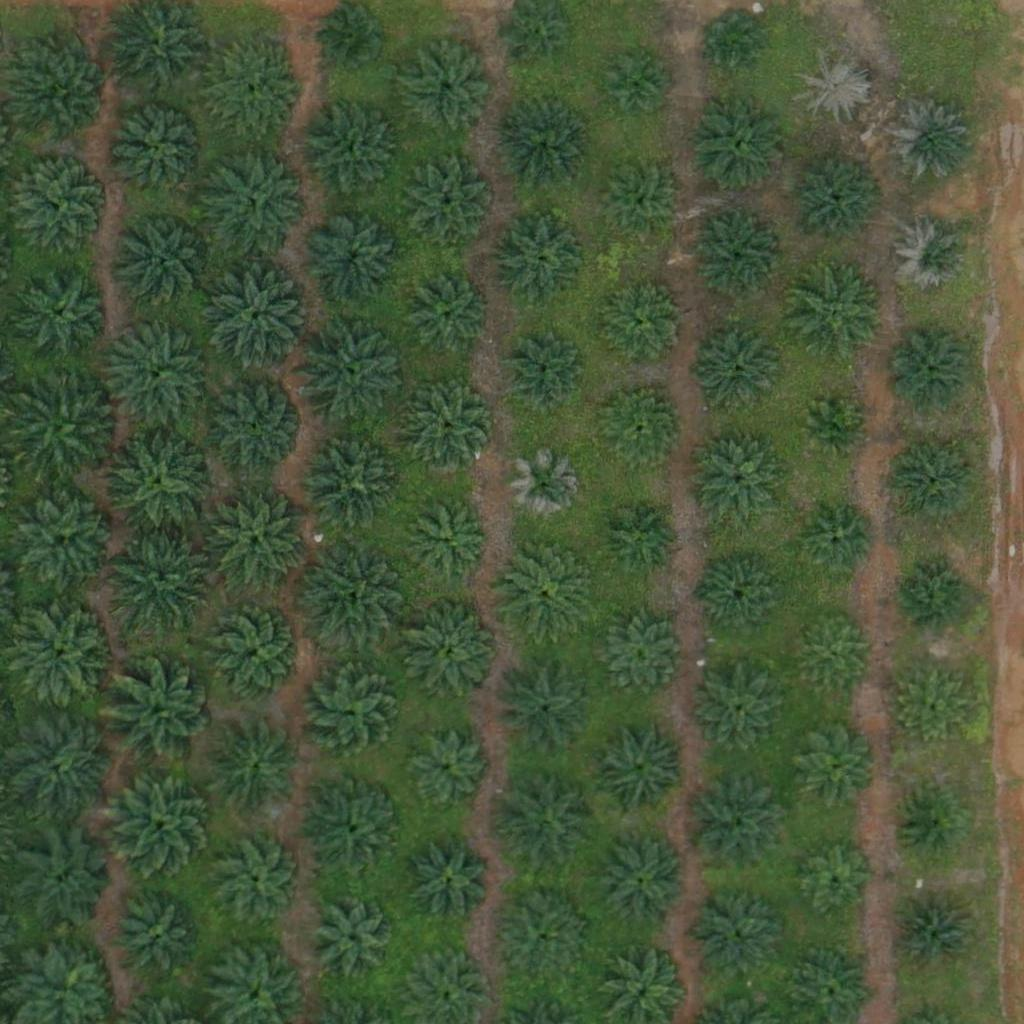Kelapa_Sawit: (9, 369, 122, 483), (101, 426, 214, 540), (109, 525, 222, 639), (296, 316, 409, 429), (103, 657, 216, 770), (105, 767, 218, 880), (99, 319, 211, 433), (296, 541, 408, 655), (203, 260, 315, 373), (11, 45, 111, 146), (16, 488, 116, 589), (112, 104, 212, 205), (114, 210, 214, 311), (205, 42, 305, 143), (207, 148, 307, 249), (301, 100, 401, 201), (304, 208, 404, 309), (302, 432, 402, 533), (398, 38, 498, 139), (500, 541, 600, 642), (683, 775, 783, 876), (588, 606, 688, 707), (588, 716, 688, 817), (494, 656, 594, 757), (205, 716, 305, 817), (9, 603, 109, 704), (6, 715, 106, 816), (15, 831, 115, 932), (11, 154, 111, 254), (14, 265, 114, 365), (206, 376, 306, 476), (208, 493, 308, 593), (690, 96, 790, 196), (789, 150, 889, 250), (789, 264, 889, 364), (497, 772, 597, 872), (402, 600, 502, 700), (301, 662, 401, 762), (305, 778, 405, 878), (205, 603, 305, 703), (406, 162, 494, 251), (596, 386, 684, 475), (698, 553, 786, 642), (597, 493, 685, 581), (500, 105, 588, 193), (497, 218, 585, 306), (599, 284, 687, 372), (885, 98, 973, 186), (887, 328, 975, 416), (888, 439, 976, 527), (693, 667, 781, 755), (692, 892, 780, 980), (405, 729, 493, 817), (114, 893, 202, 981), (789, 720, 876, 808), (892, 892, 979, 980), (403, 276, 490, 364), (406, 386, 493, 474), (695, 213, 782, 301), (694, 329, 781, 417), (695, 439, 782, 527), (597, 840, 684, 928), (500, 900, 587, 988), (312, 892, 399, 980), (214, 836, 301, 924), (412, 503, 487, 579), (796, 49, 871, 125), (897, 219, 972, 295), (414, 846, 489, 922), (602, 168, 677, 243), (802, 504, 877, 579), (800, 846, 875, 921), (892, 667, 967, 742), (899, 559, 974, 634), (506, 336, 581, 411), (508, 450, 583, 525), (794, 615, 869, 690), (507, 1, 570, 64), (604, 48, 667, 111), (324, 3, 387, 66), (897, 790, 960, 853), (804, 399, 867, 462), (700, 9, 762, 71)
